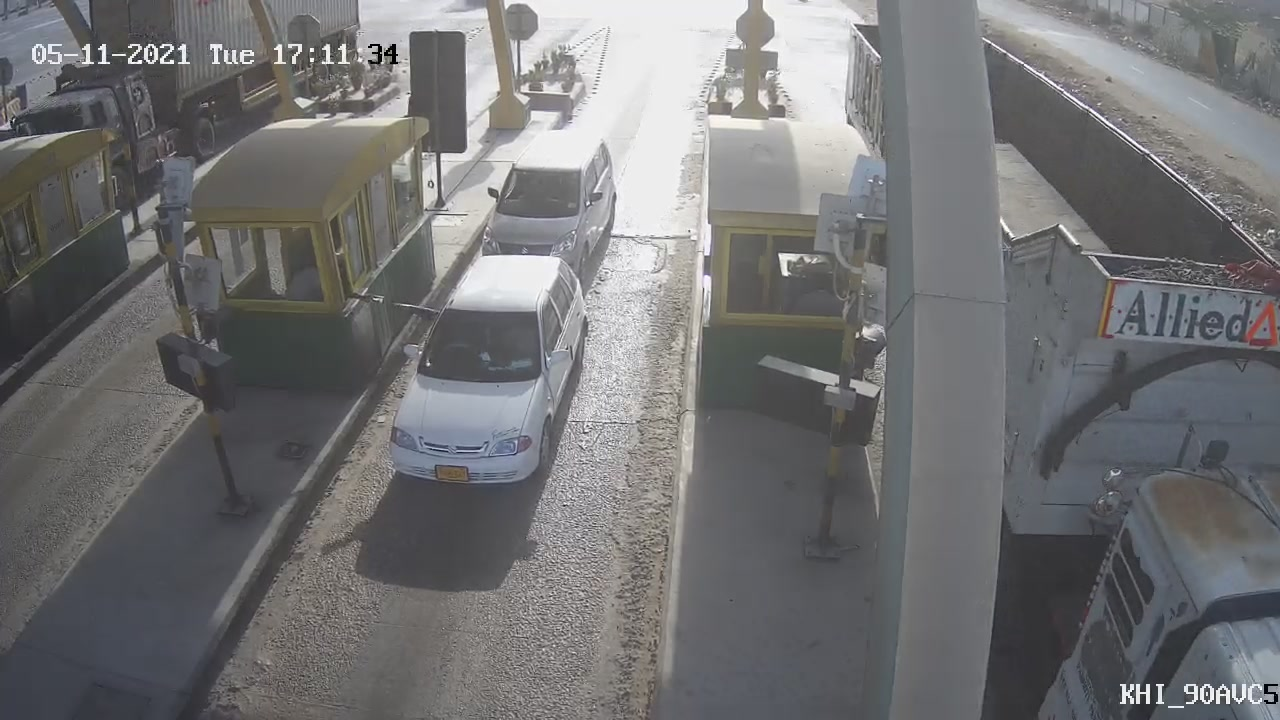F1: (369, 240, 608, 507), (463, 120, 637, 305)
